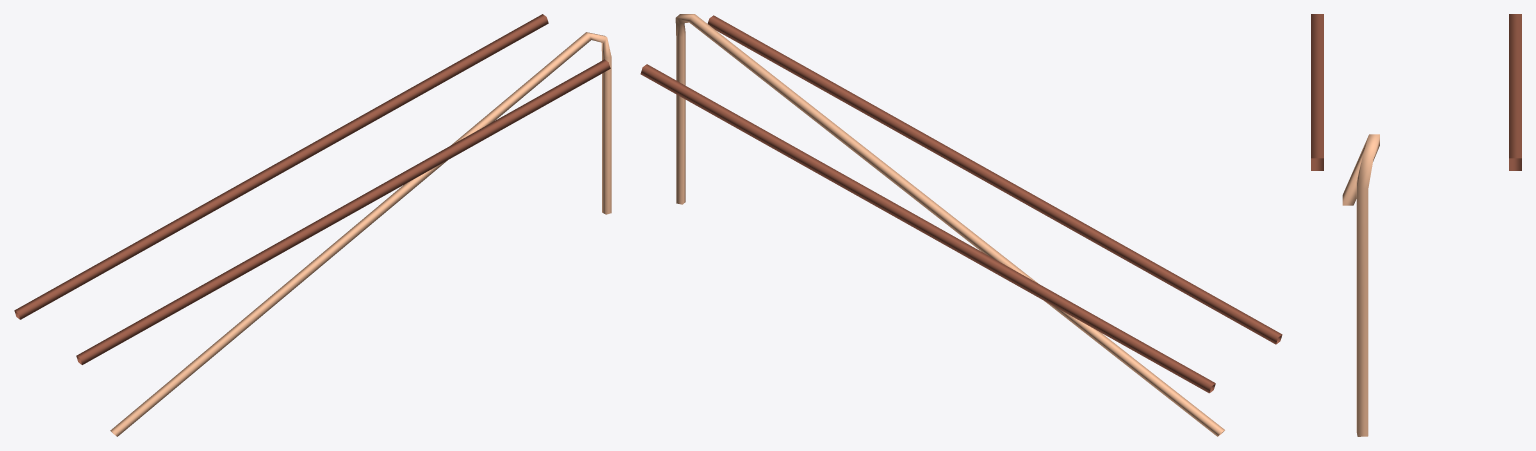
File: n4_crane_rope_001_lev4.glb
3 renders of one model, left to right at view 1: azimuth 30°, elevation 25°; view 2: azimuth 150°, elevation 25°; view 3: azimuth 270°, elevation 25°, orthographic. The views are drawn at different scales.
Visible parts, largest first — view 1: n4_crane_rope_001_lev4; view 2: n4_crane_rope_001_lev4; view 3: n4_crane_rope_001_lev4.
Boxes of the visible parts, x1,y1,x2,y2 form: n4_crane_rope_001_lev4: [14, 14, 611, 436]; n4_crane_rope_001_lev4: [640, 14, 1282, 436]; n4_crane_rope_001_lev4: [1311, 14, 1521, 436].
Size of the model in its own units: 2.55 by 1.25 by 0.5346.
Materials: 1 (1 with a texture image).
